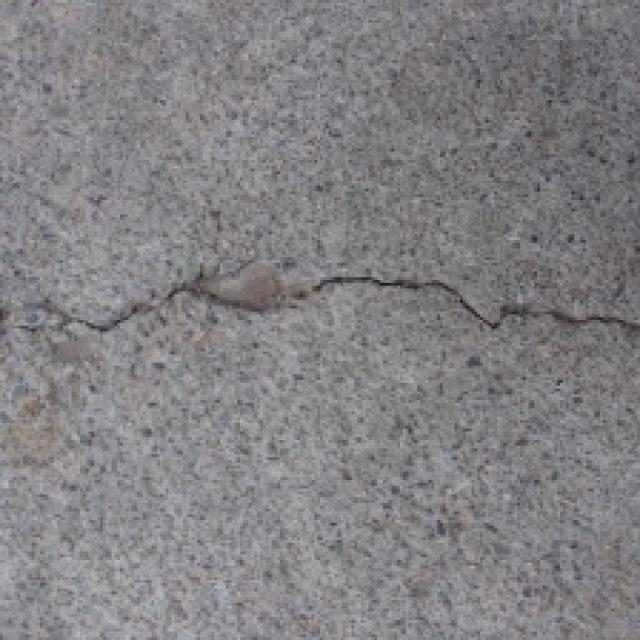crack: (0, 234, 640, 416)
